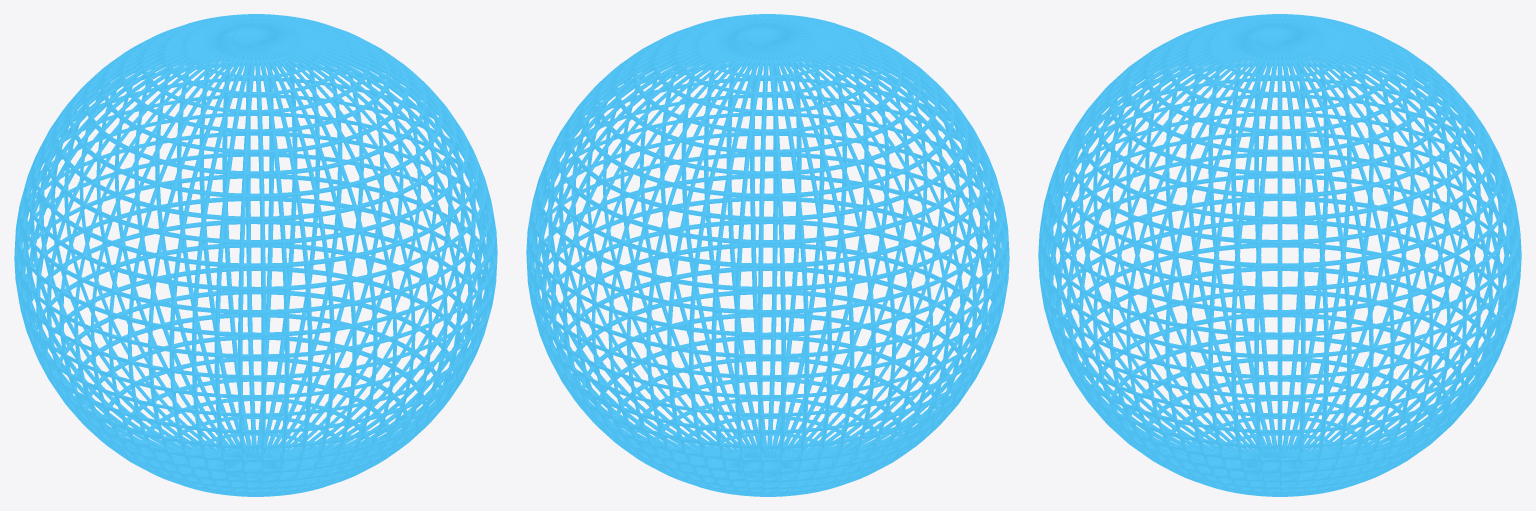
The model's file is wire_sphere.glb.
The picture shows the model from 3 angles, left to right: view 1: azimuth 30°, elevation 25°; view 2: azimuth 150°, elevation 25°; view 3: azimuth 270°, elevation 25°; orthographic projection.
Visible parts, largest first — view 1: WireSphere; view 2: WireSphere; view 3: WireSphere.
Boxes of the visible parts, x1=… form: WireSphere: x1=14, y1=14, x2=497, y2=496; WireSphere: x1=526, y1=14, x2=1009, y2=496; WireSphere: x1=1038, y1=14, x2=1521, y2=496.
Size of the model in its own units: 2.02 by 2.02 by 2.02.
